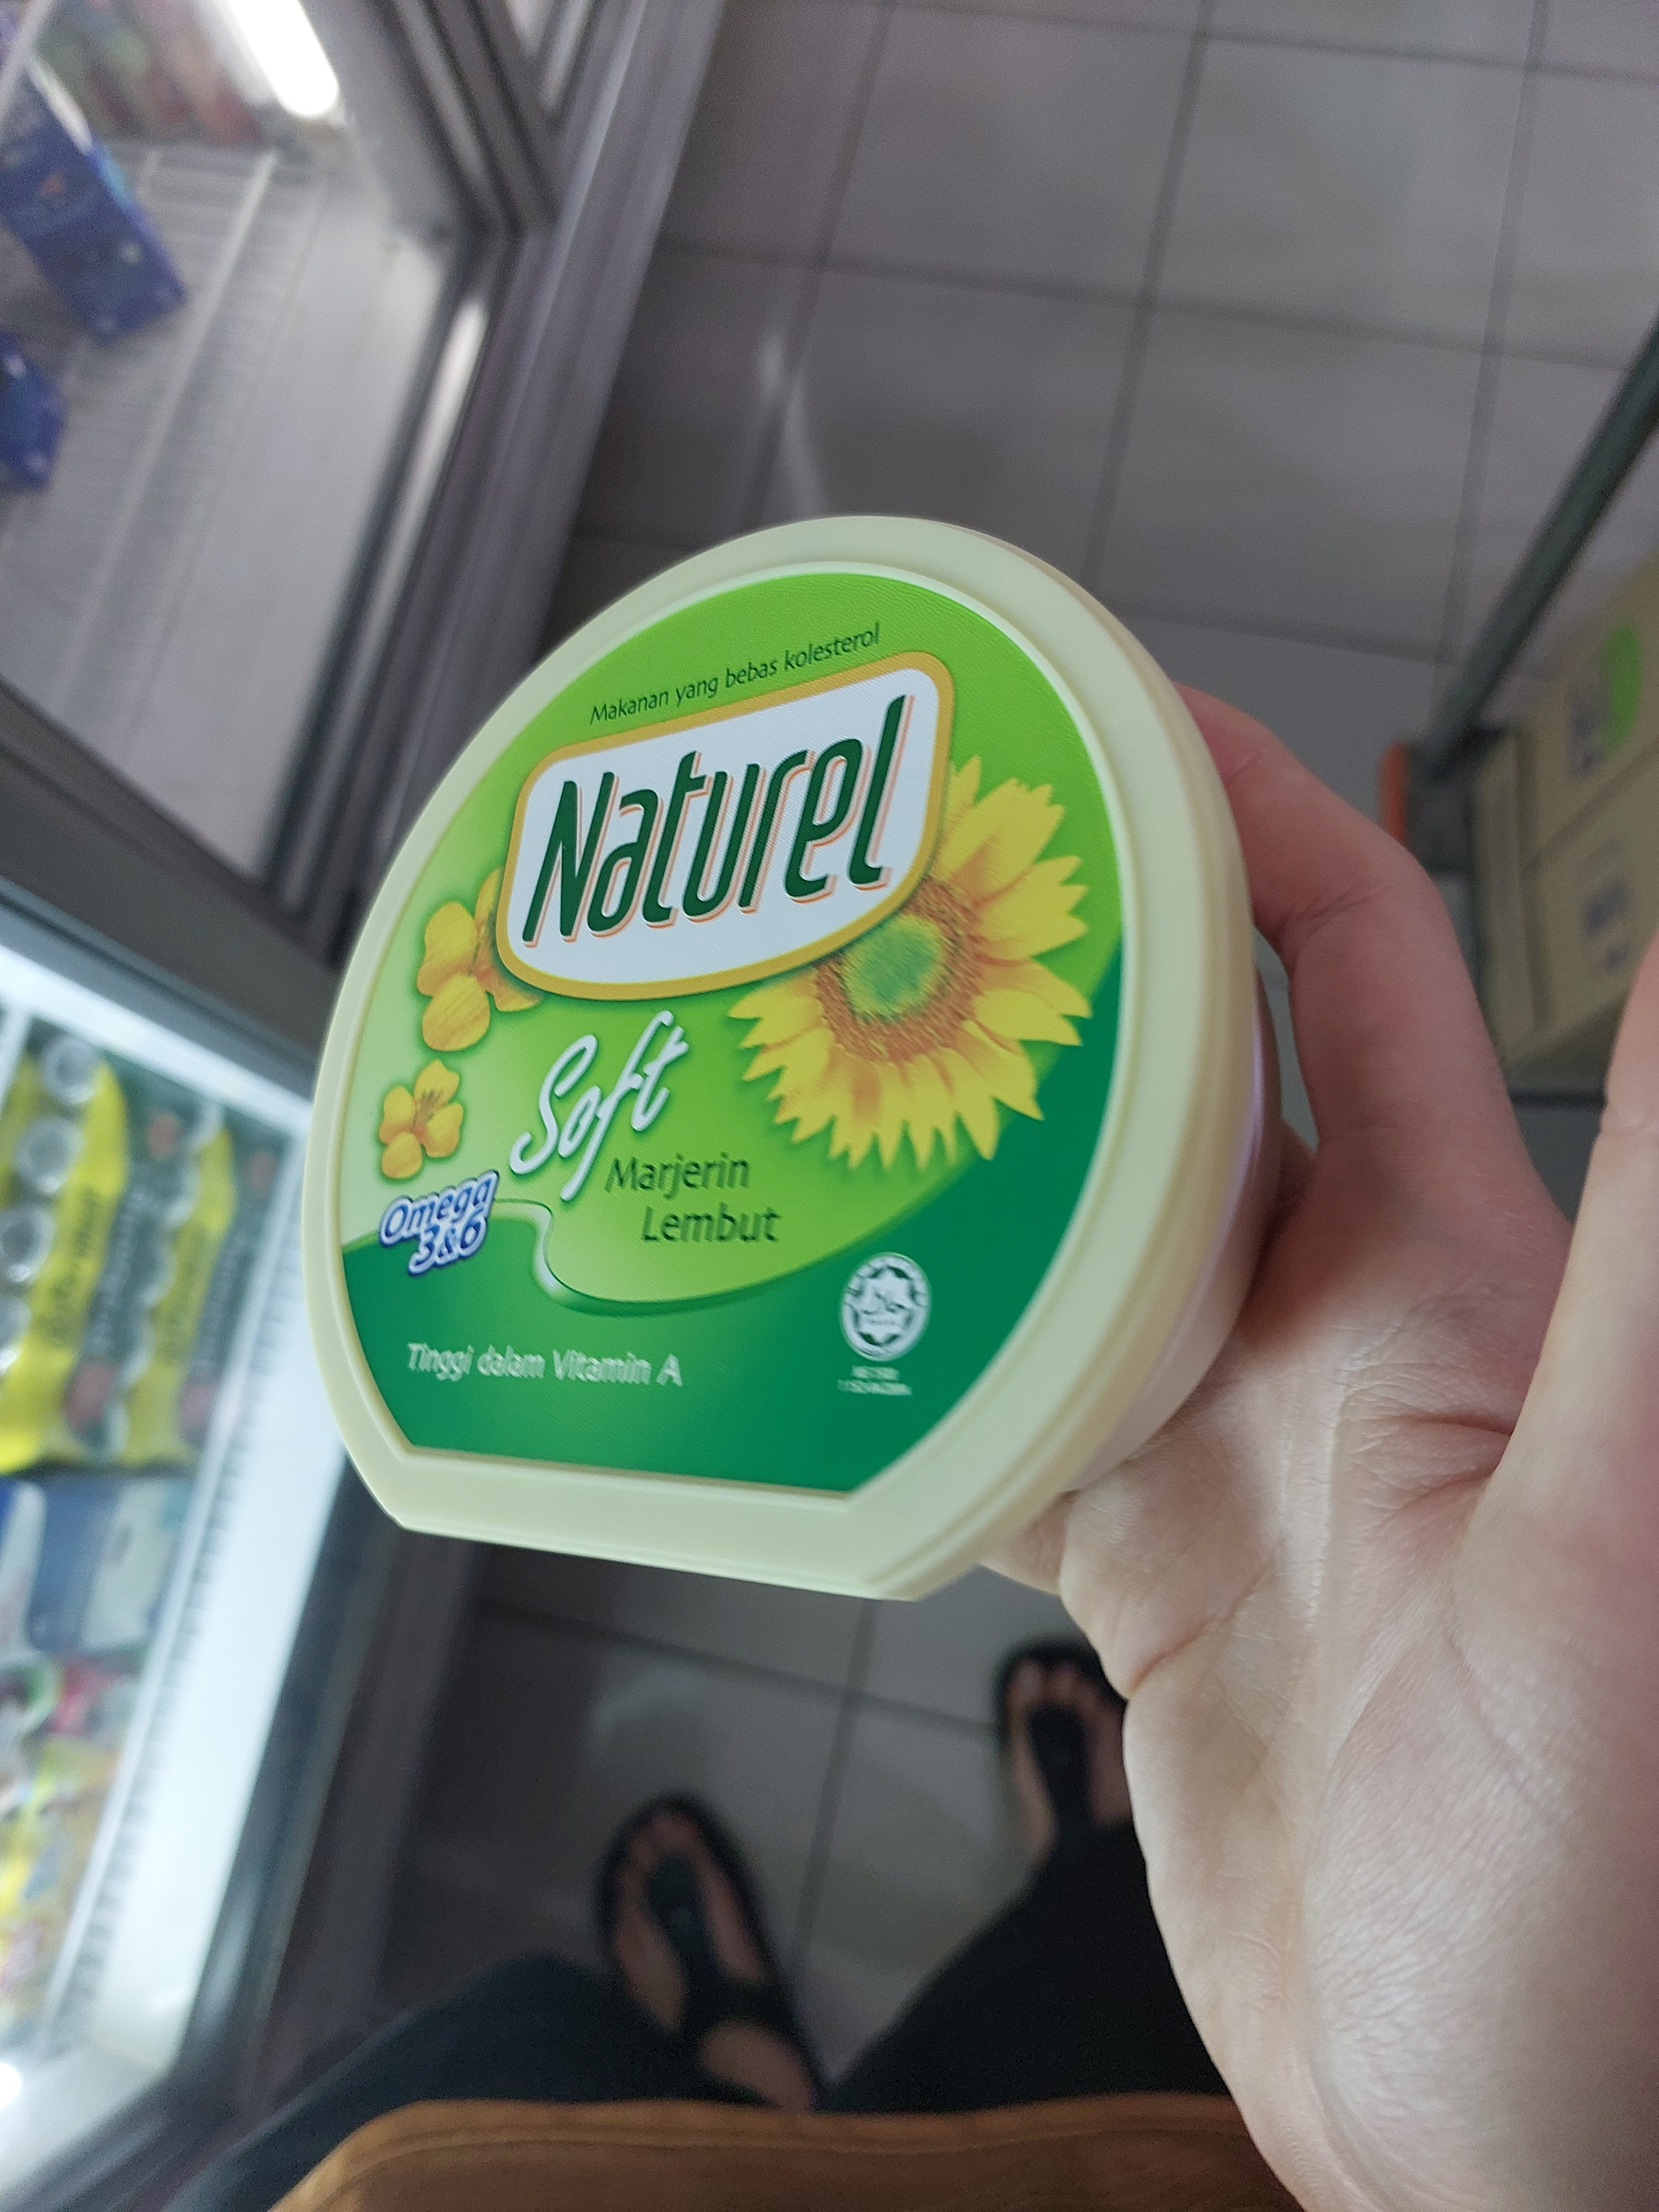butter: (296, 507, 1293, 1608)
